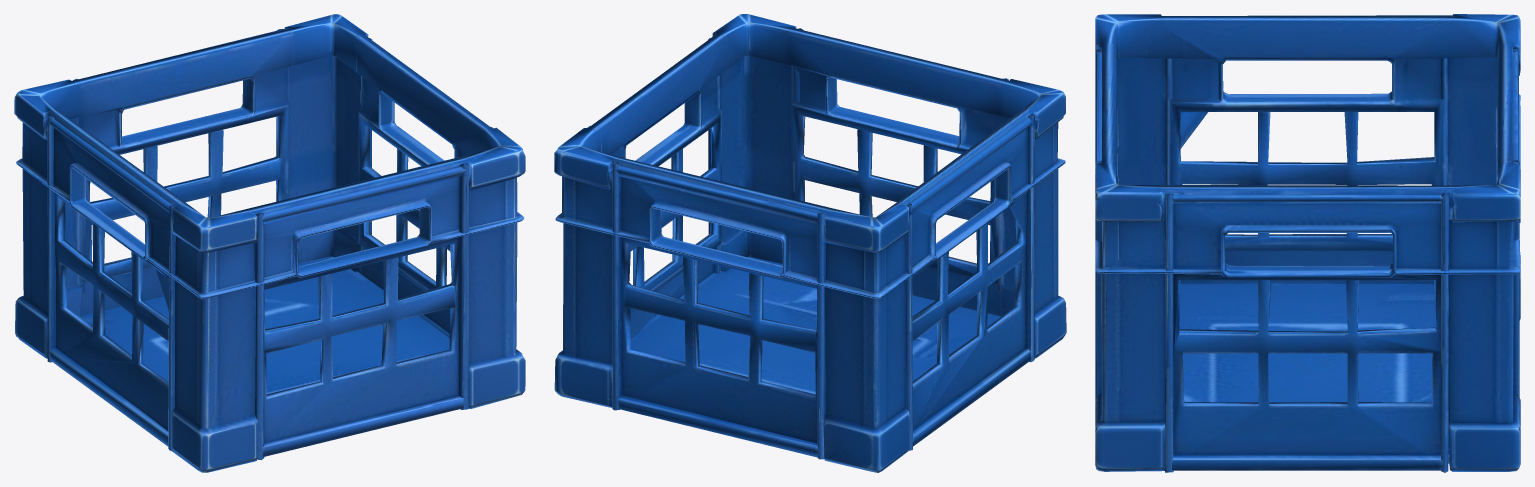
The model's file is blue-crate.glb.
3 renders of one model, left to right at view 1: azimuth 30°, elevation 25°; view 2: azimuth 150°, elevation 25°; view 3: azimuth 270°, elevation 25°, orthographic. The views are drawn at different scales.
Size of the model in its own units: 1 by 0.7285 by 1.
1 material, 1 textured.
